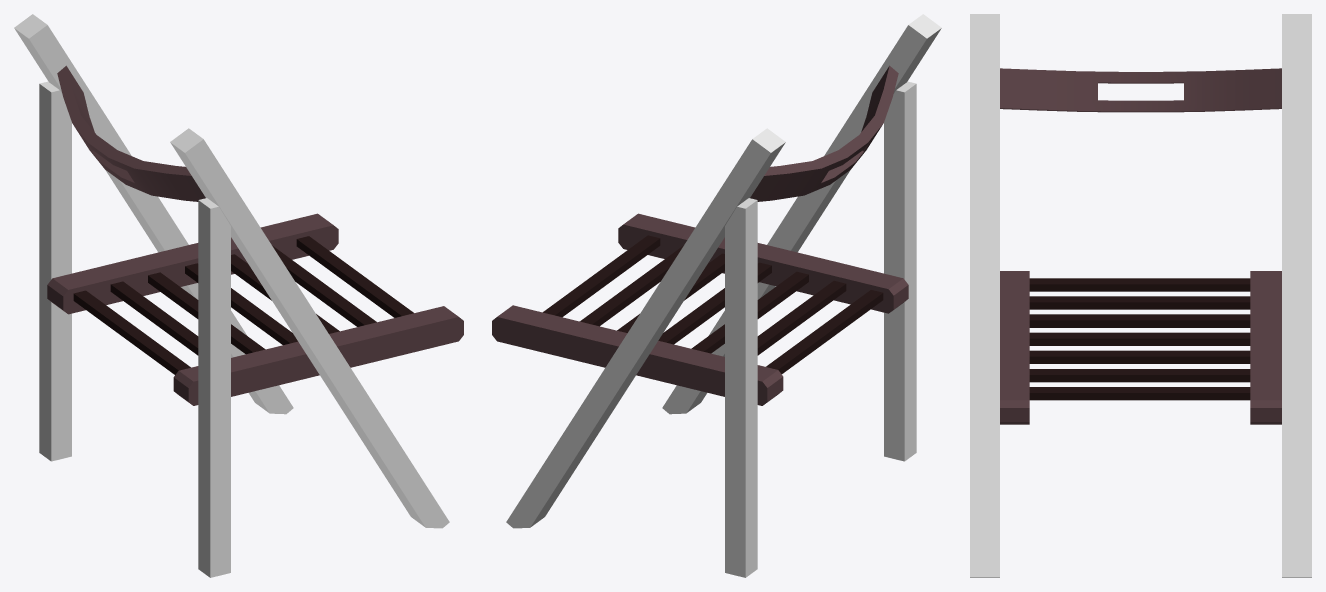
File: stolica_1.fbx
The picture shows the model from 3 angles, left to right: view 1: azimuth 30°, elevation 25°; view 2: azimuth 150°, elevation 25°; view 3: azimuth 270°, elevation 25°; orthographic projection.
Visible parts, largest first — view 1: Cube.004; view 2: Cube.004; view 3: Cube.004.
Boxes of the visible parts, box(x1,y1,x2,y2) form: Cube.004: box(14, 14, 463, 577); Cube.004: box(492, 14, 941, 577); Cube.004: box(970, 14, 1311, 577).
Size of the model in its own units: 171 by 248 by 172.
